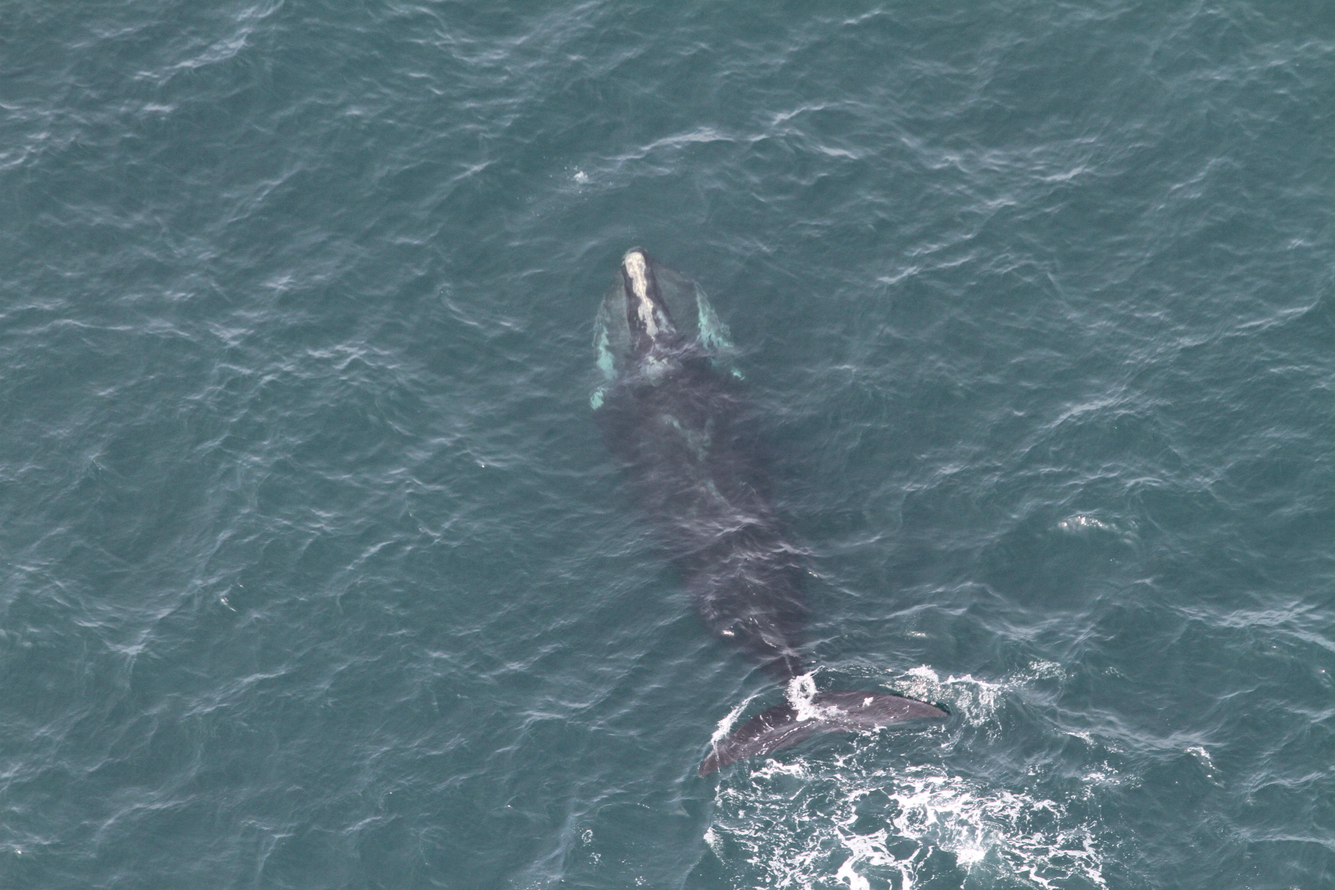whale: (584, 243, 978, 783)
